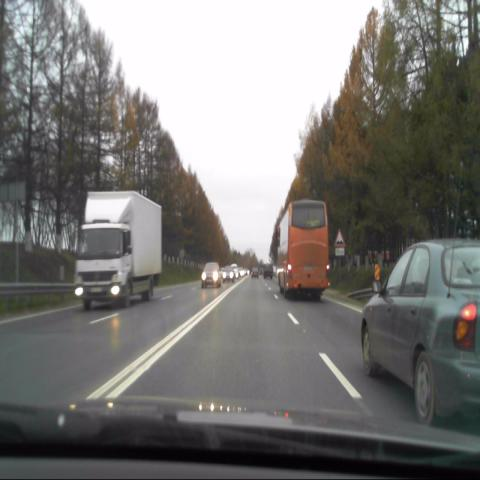1_16: (334, 228, 346, 248)
